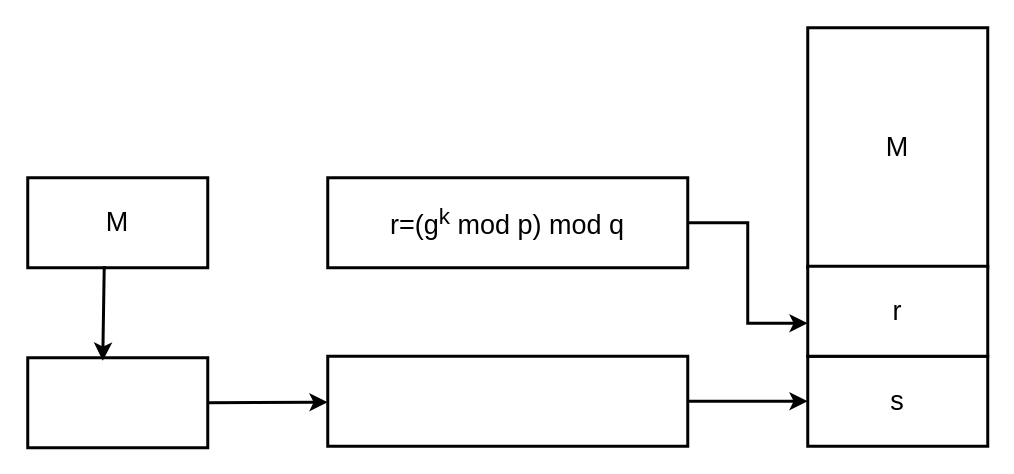
Image size: 1014x474. Some labels were removed from this diagram. The centre of each missing label's shape, as x and y in pixels:
"m=H(M)" goes at point (117, 402).
"s=k -1 (m+xr)mod q" goes at point (507, 400).
